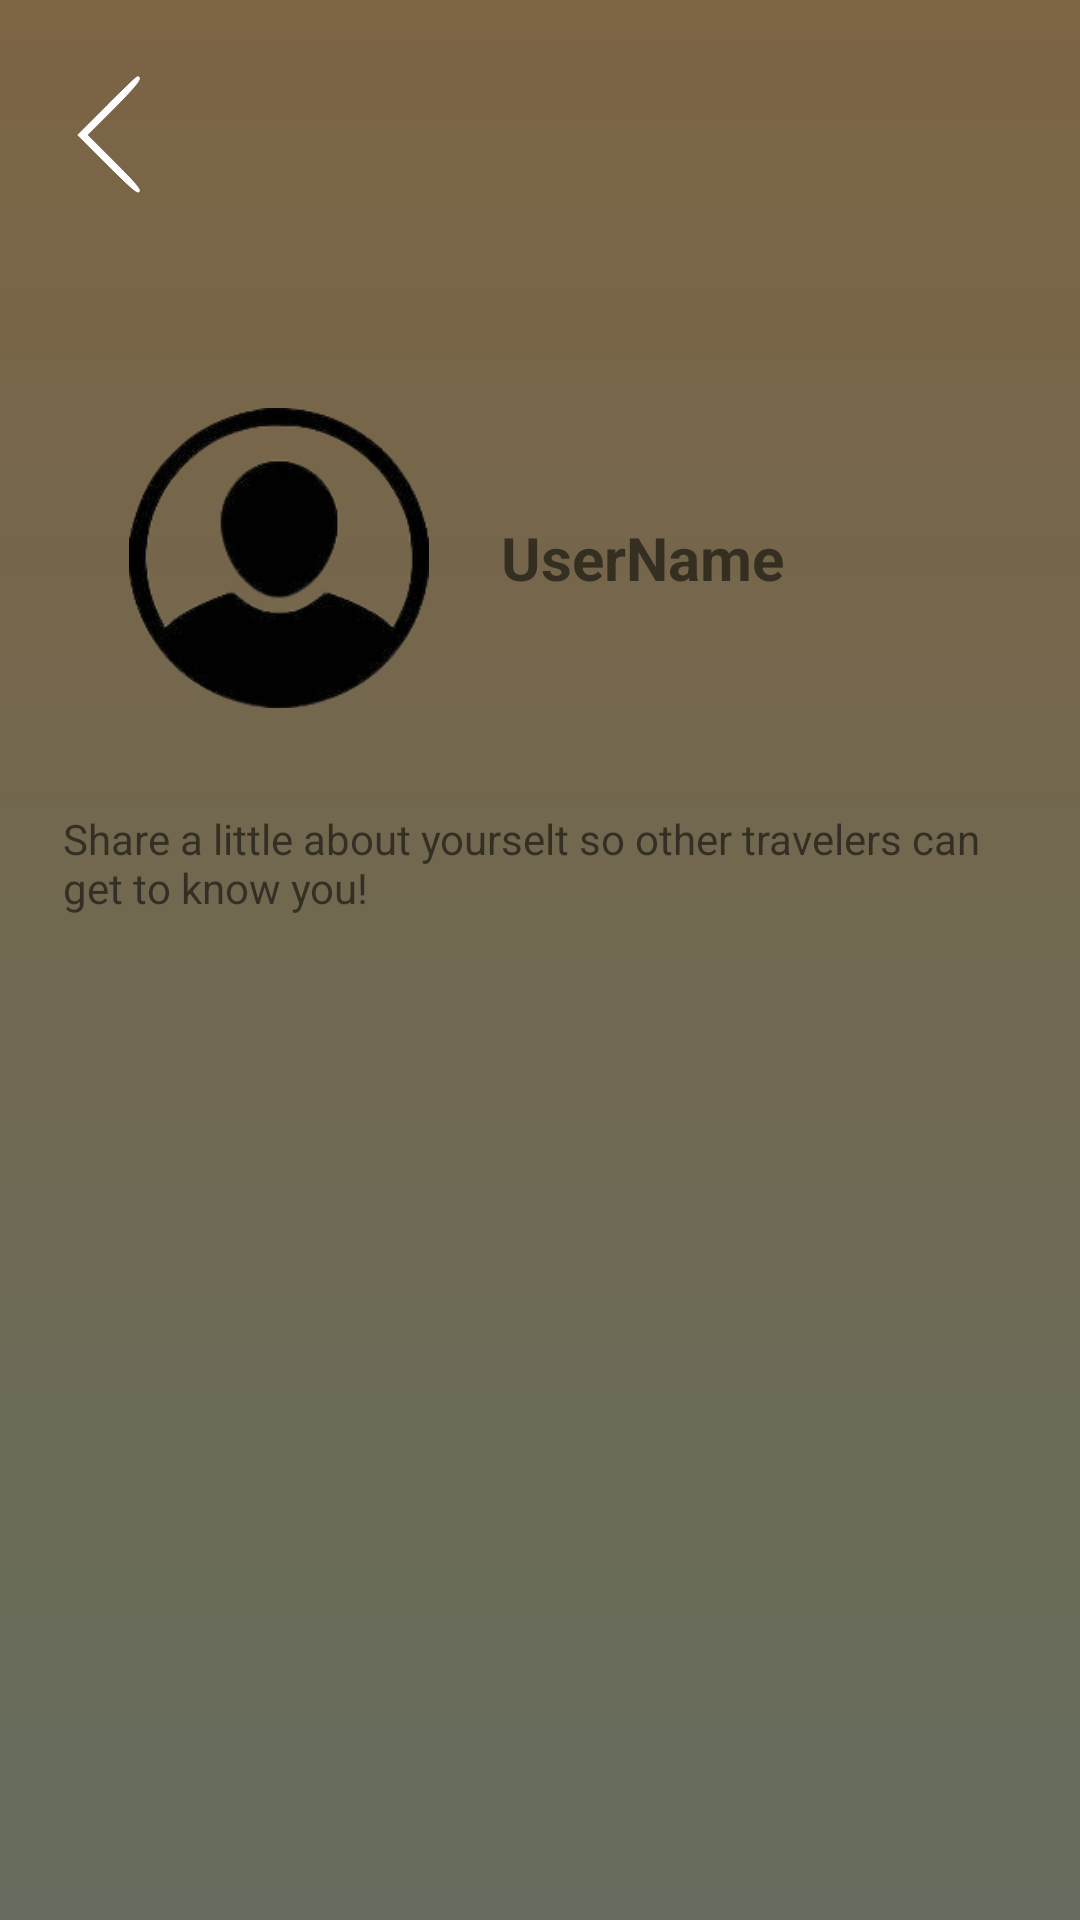

Named icons in this screenshot (1080x1920) and their bounding boxes, detection(x1, y1, x2, y2):
profilee: detection(129, 408, 429, 708)
